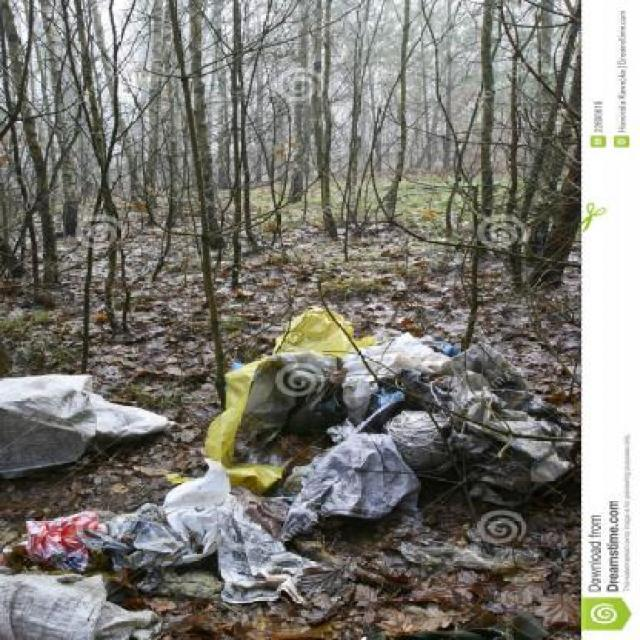garbage: (196, 306, 557, 524), (0, 474, 268, 637), (0, 372, 162, 470)
